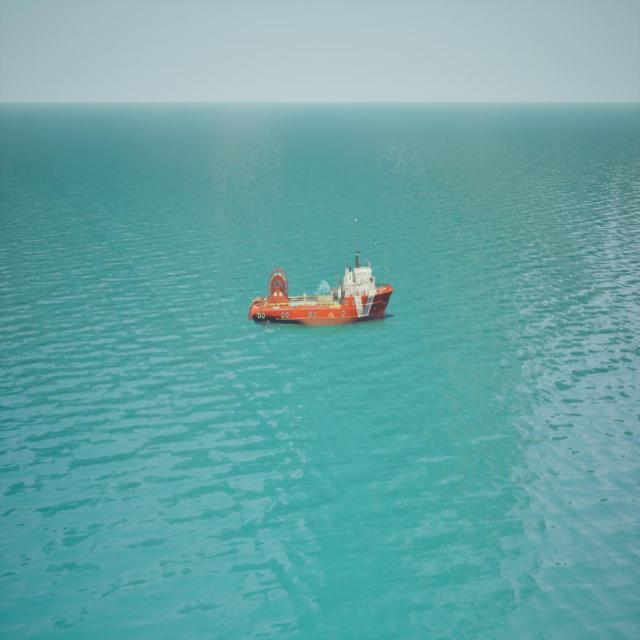tug boat: (249, 258, 395, 332)
